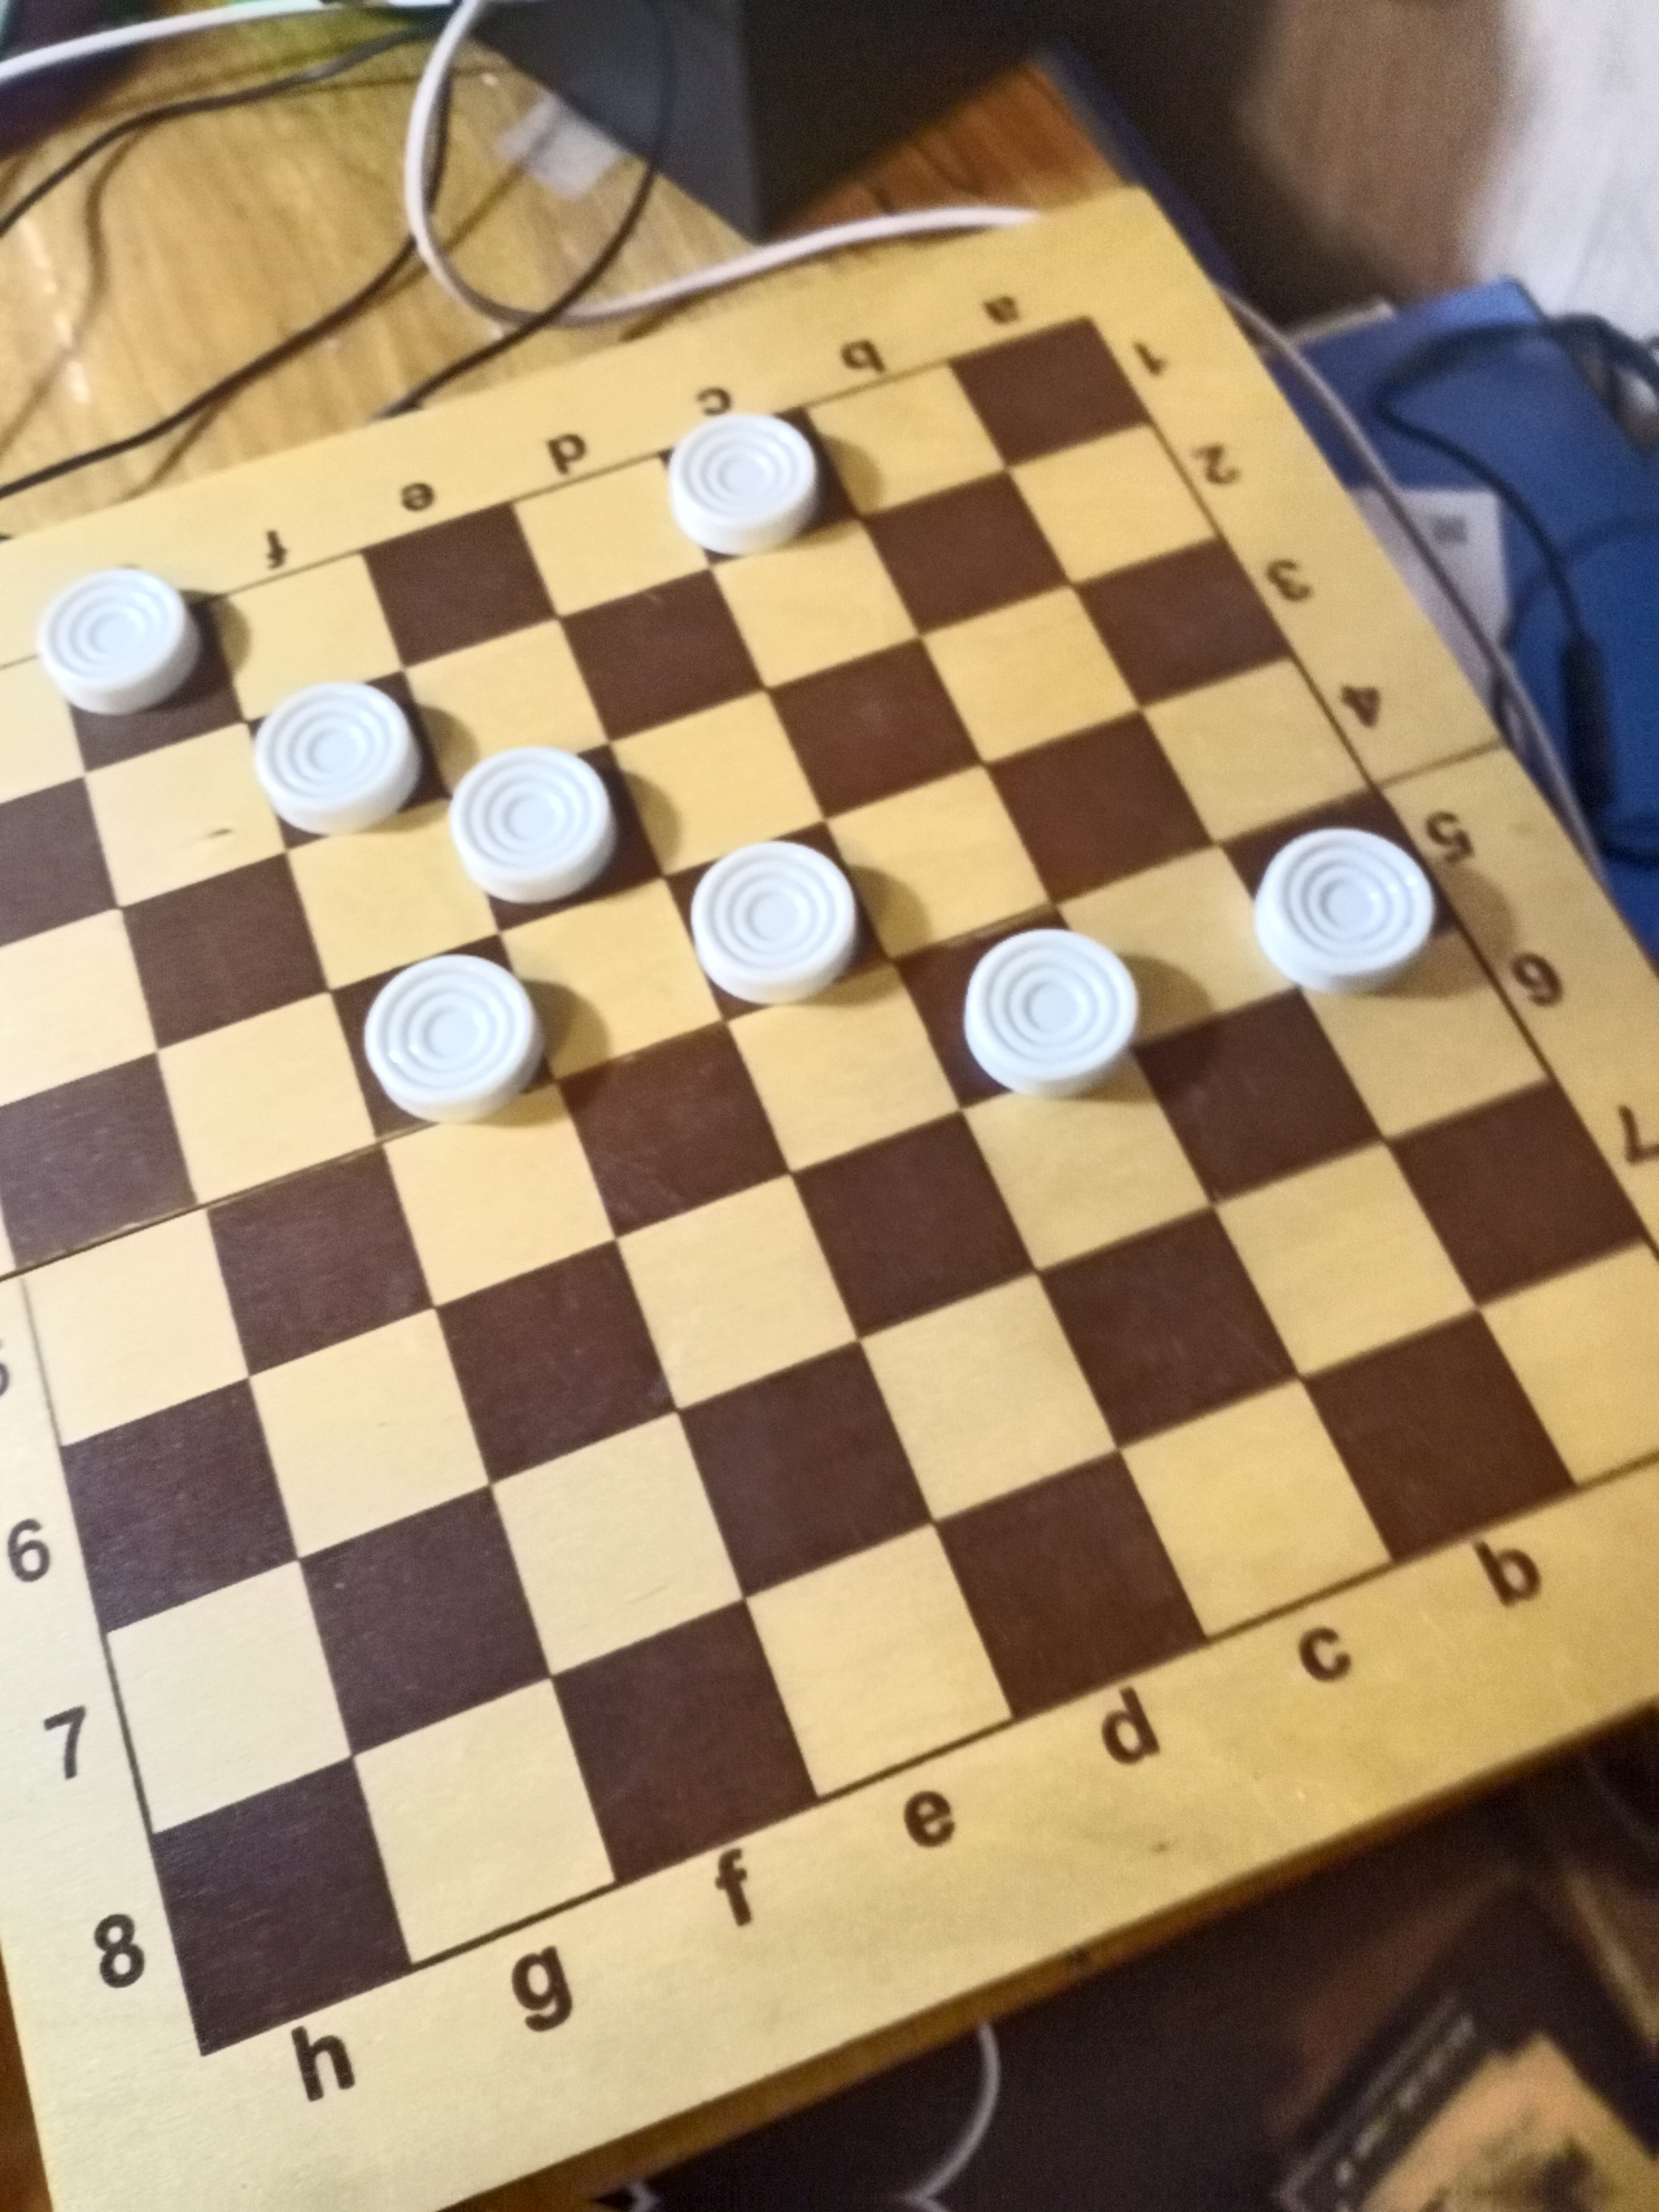White_Draught: (894, 904, 1140, 1111), (1218, 787, 1457, 993), (328, 934, 554, 1141), (664, 824, 892, 1024), (37, 566, 247, 772), (448, 744, 666, 934), (247, 669, 448, 852), (659, 406, 859, 566)
